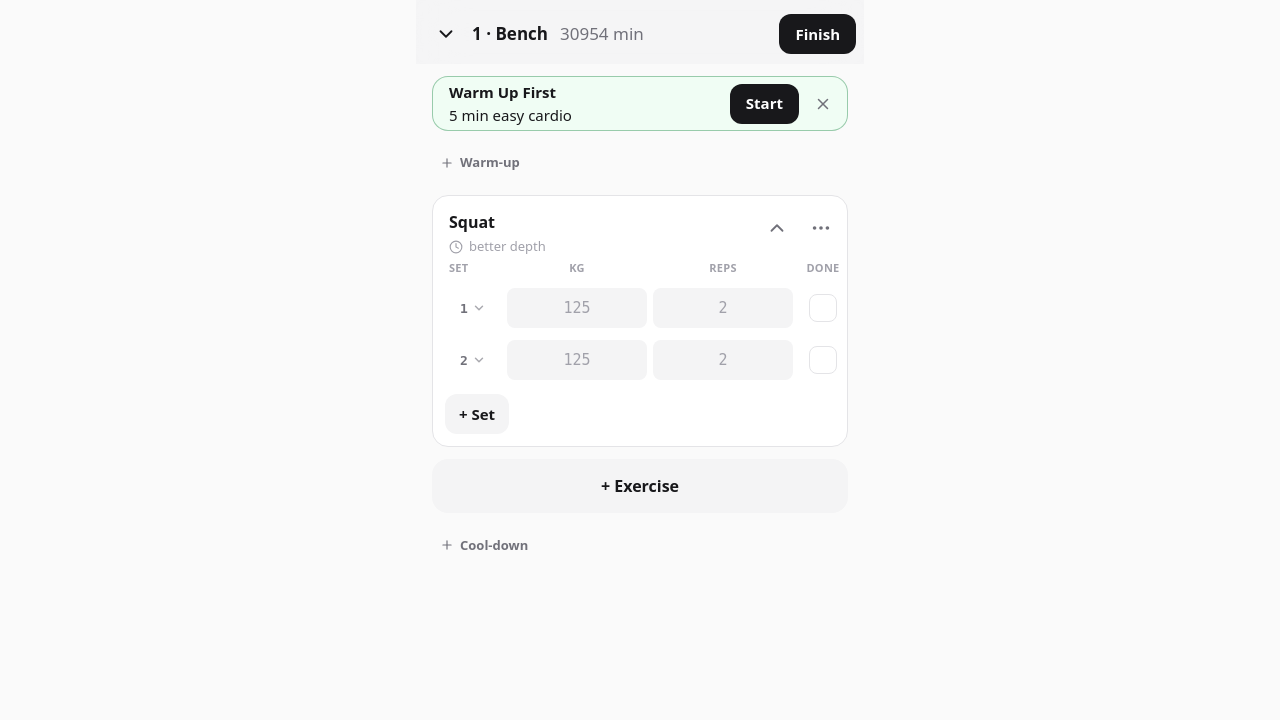
Test: Session › shows last time, ticks a set and saves it at Finish
Expected: the text "better depth" is shown, [469,238,546,256]
Step 1. Click the button named "Set 1 done" → click(823, 308), box [799,284,847,332]
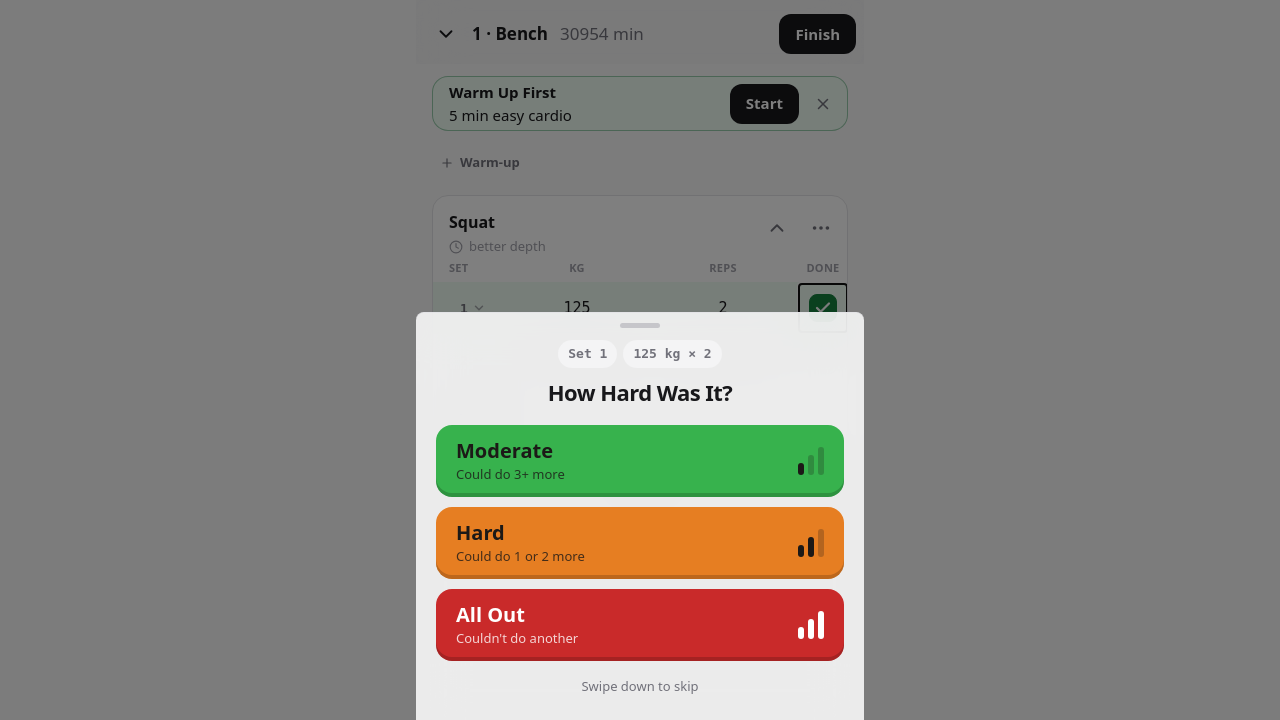
Step 2. Click the button "Hard Could do 1 or 2 more" → click(480, 532), box [436,506,844,578]
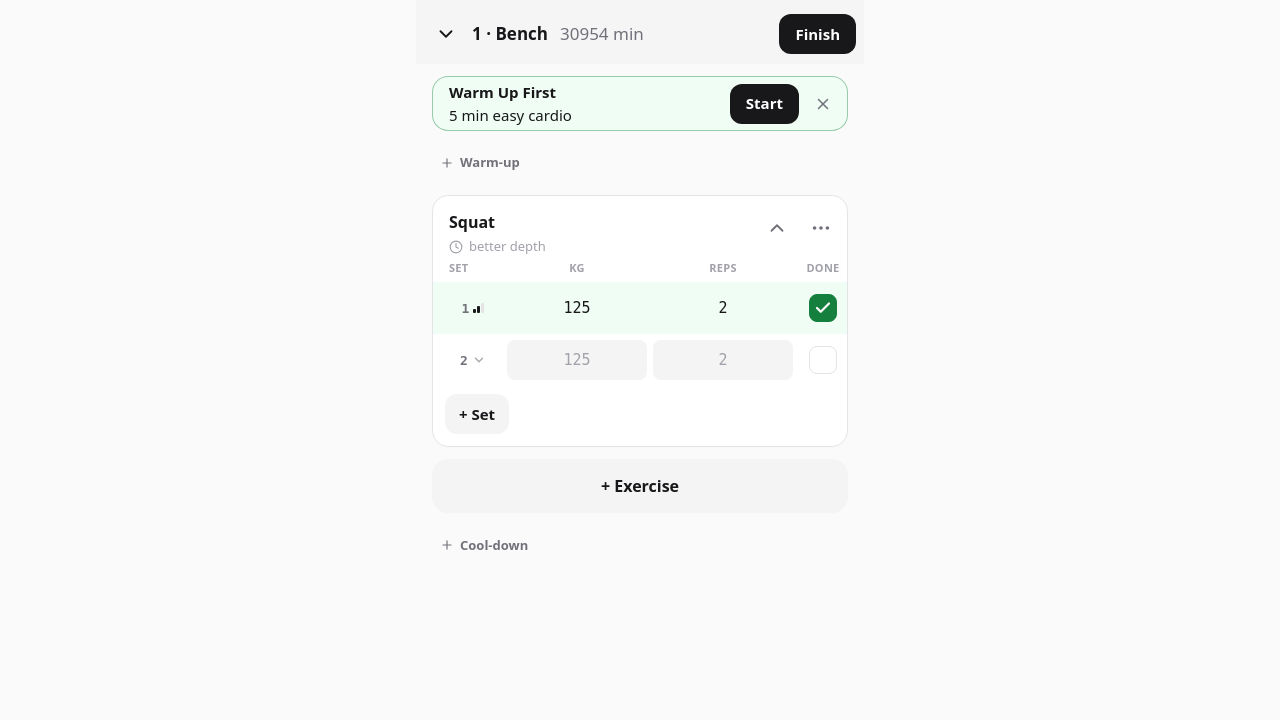
Now the text "How Hard Was It?" is gone
Step 3. Click the button "Finish" → click(818, 34), box [779,14,856,54]
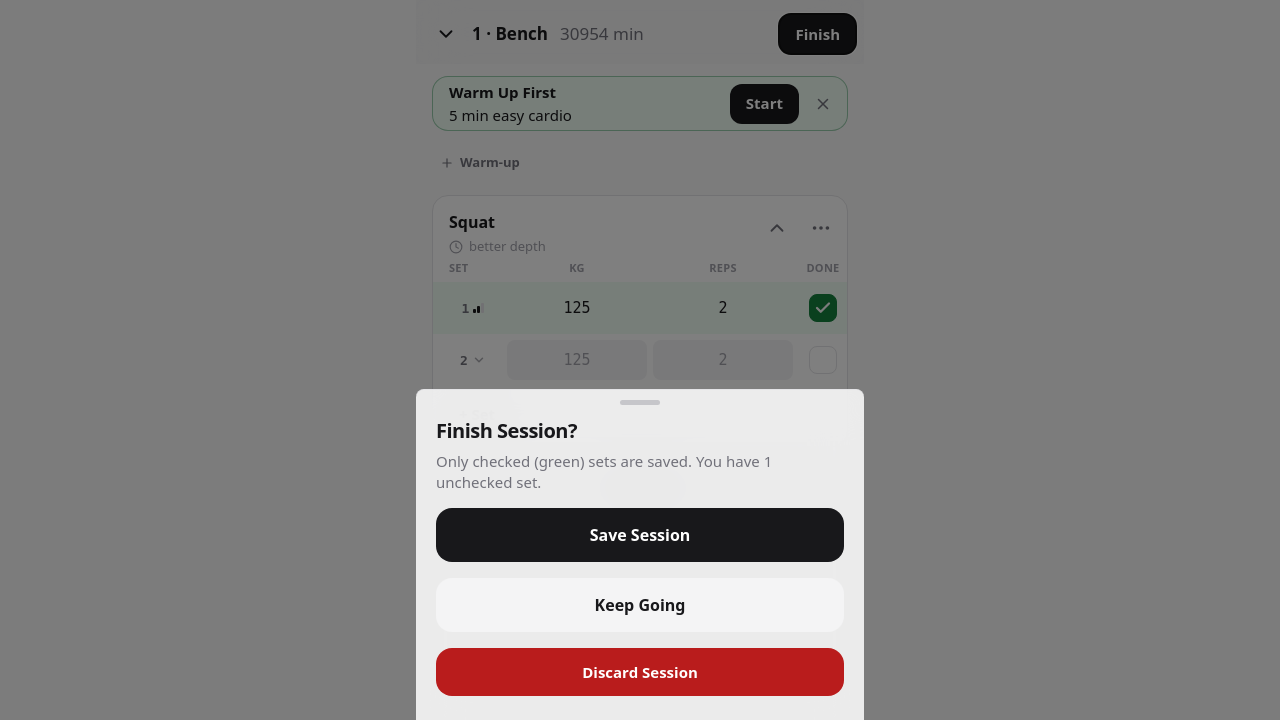
Step 4. Click the button "Save Session" → click(640, 535), box [436,508,844,562]
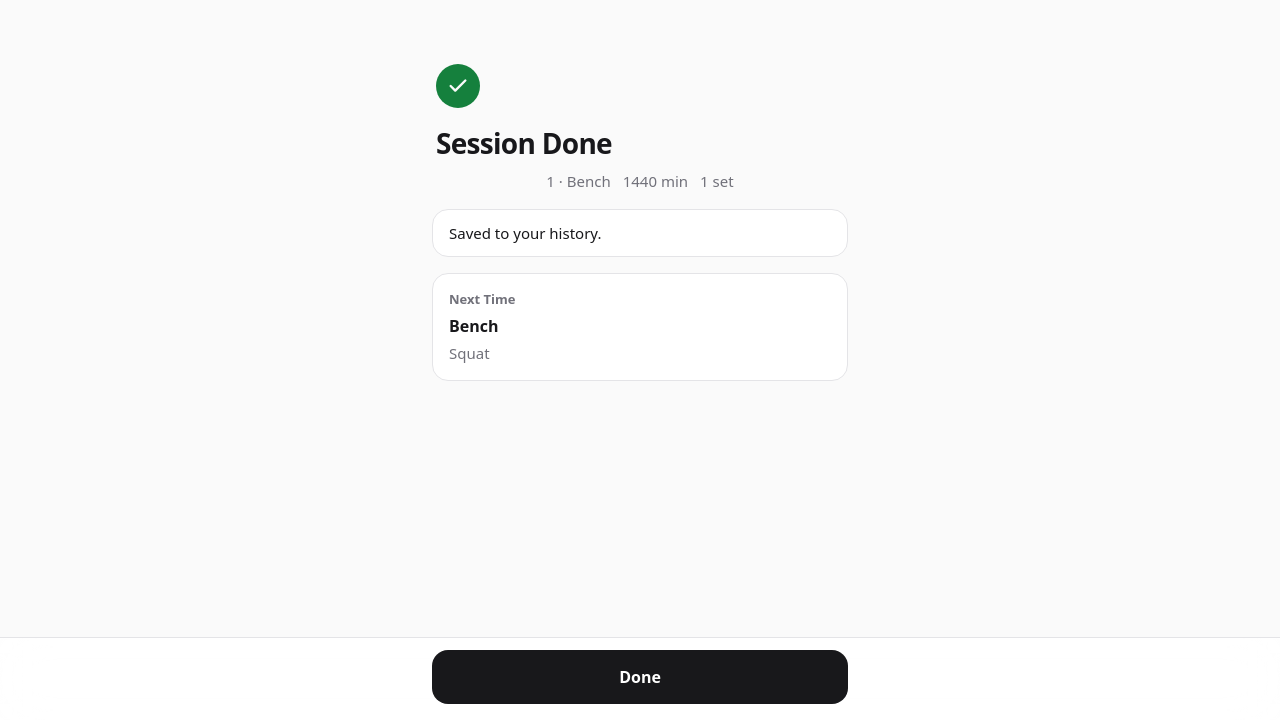
Now the text "Saved to your history." is shown, box [432,208,848,257]
